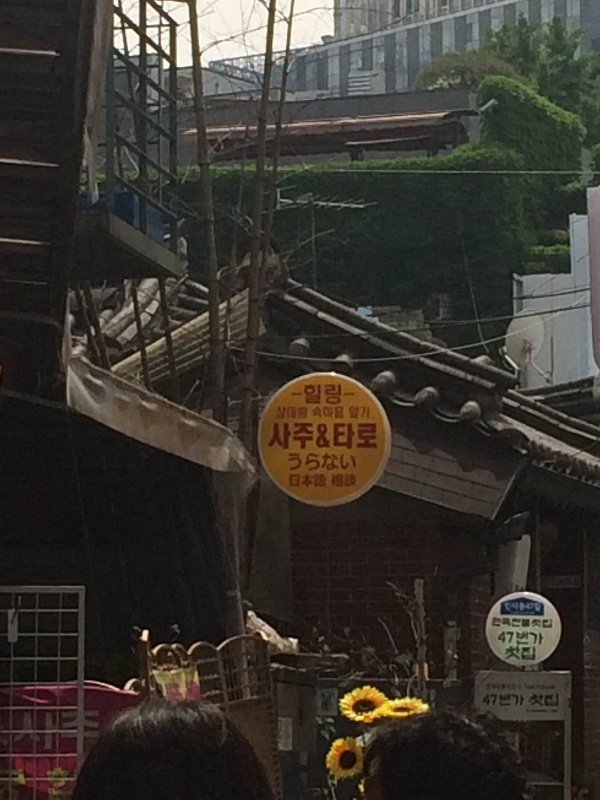text: (33, 709, 48, 754), (49, 709, 64, 754), (65, 709, 80, 754), (81, 709, 96, 754), (49, 766, 64, 800), (1, 766, 16, 799), (273, 422, 288, 452), (289, 422, 304, 452), (22, 709, 32, 754), (337, 422, 352, 451), (353, 422, 368, 451), (17, 766, 29, 799), (305, 383, 320, 405), (321, 383, 336, 405), (164, 682, 176, 708), (65, 766, 74, 800), (289, 452, 304, 472), (305, 452, 320, 472), (321, 452, 336, 472), (337, 452, 352, 472), (529, 629, 545, 647), (321, 423, 332, 449), (305, 422, 314, 452), (513, 629, 528, 647), (513, 644, 528, 662), (369, 422, 378, 451), (177, 682, 187, 708), (305, 472, 320, 488), (337, 472, 352, 488), (497, 692, 512, 707), (545, 693, 560, 708), (97, 709, 102, 754), (290, 472, 304, 488), (289, 406, 304, 420), (321, 406, 336, 420), (353, 406, 368, 420), (497, 616, 512, 630), (513, 616, 528, 630), (529, 616, 544, 630), (530, 693, 544, 708), (501, 629, 512, 647), (513, 601, 528, 613), (484, 692, 496, 707), (513, 692, 525, 707), (276, 406, 288, 420), (497, 681, 512, 691), (513, 681, 528, 691), (529, 681, 544, 691), (529, 601, 541, 613), (529, 644, 536, 662), (321, 472, 328, 488), (545, 616, 553, 630), (337, 383, 342, 405), (545, 681, 556, 691), (506, 644, 512, 662), (353, 452, 358, 472), (486, 681, 496, 691), (313, 406, 320, 420), (337, 406, 344, 420), (333, 422, 336, 451), (317, 423, 320, 449), (332, 472, 336, 488), (353, 472, 357, 488), (305, 406, 309, 420), (492, 616, 496, 630), (349, 406, 352, 420), (509, 601, 512, 613), (47, 766, 48, 800), (287, 452, 288, 472), (369, 406, 370, 420)
